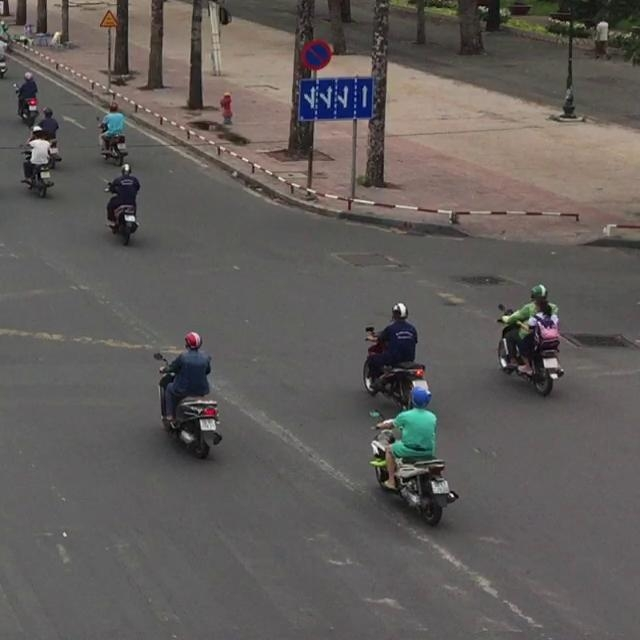motorcycle: (368, 410, 458, 526), (153, 351, 222, 459), (495, 303, 564, 397), (362, 326, 428, 409), (102, 178, 139, 246), (19, 144, 55, 198), (95, 116, 128, 166), (12, 82, 39, 124)
